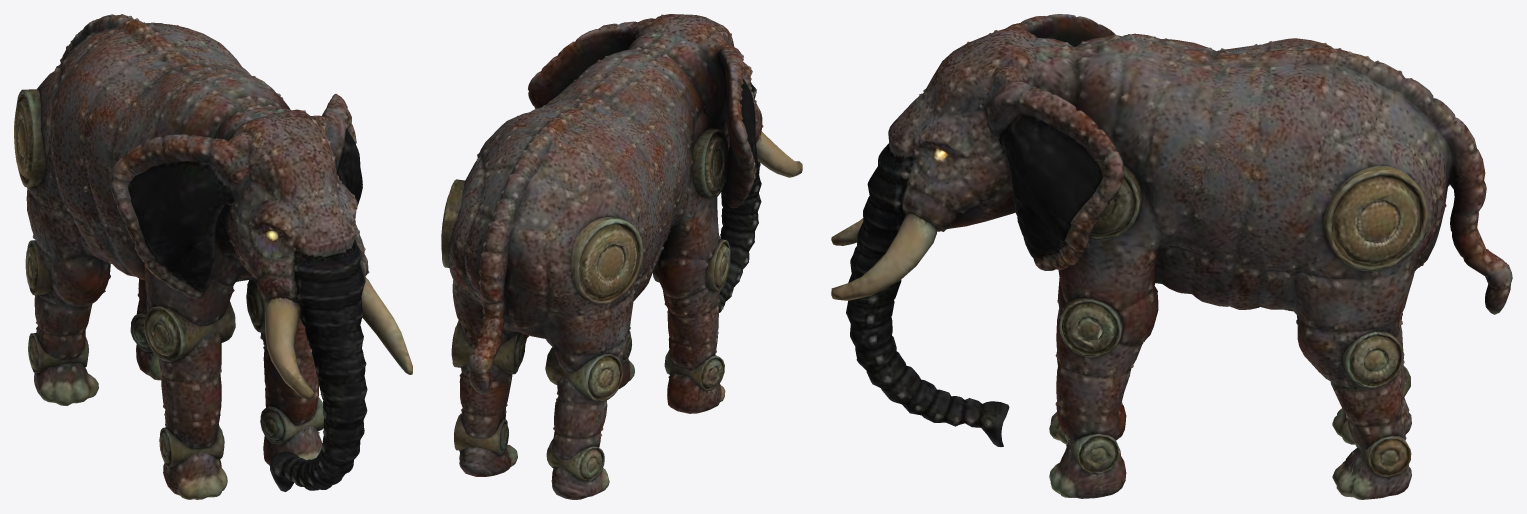
Rendered from MZ4250 - Clockwork Elephant_aged.glb.
3 views of the same model, side by side, from view 1: azimuth 30°, elevation 25°; view 2: azimuth 150°, elevation 25°; view 3: azimuth 270°, elevation 25° (orthographic). The views are drawn at different scales.
Parts seen in each view (by area): view 1: Elephant t.001; view 2: Elephant t.001; view 3: Elephant t.001.
Part boxes in pixels (x1,y1,x2,y2): Elephant t.001: [14, 14, 412, 499]; Elephant t.001: [441, 14, 802, 499]; Elephant t.001: [831, 14, 1512, 499].
Size of the model in its own units: 91.43 by 140 by 203.
1 material, 1 textured.
